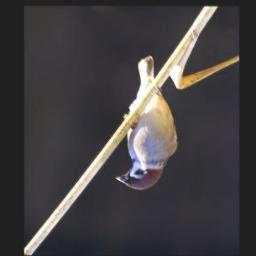Sparrow: (114, 55, 180, 192)
